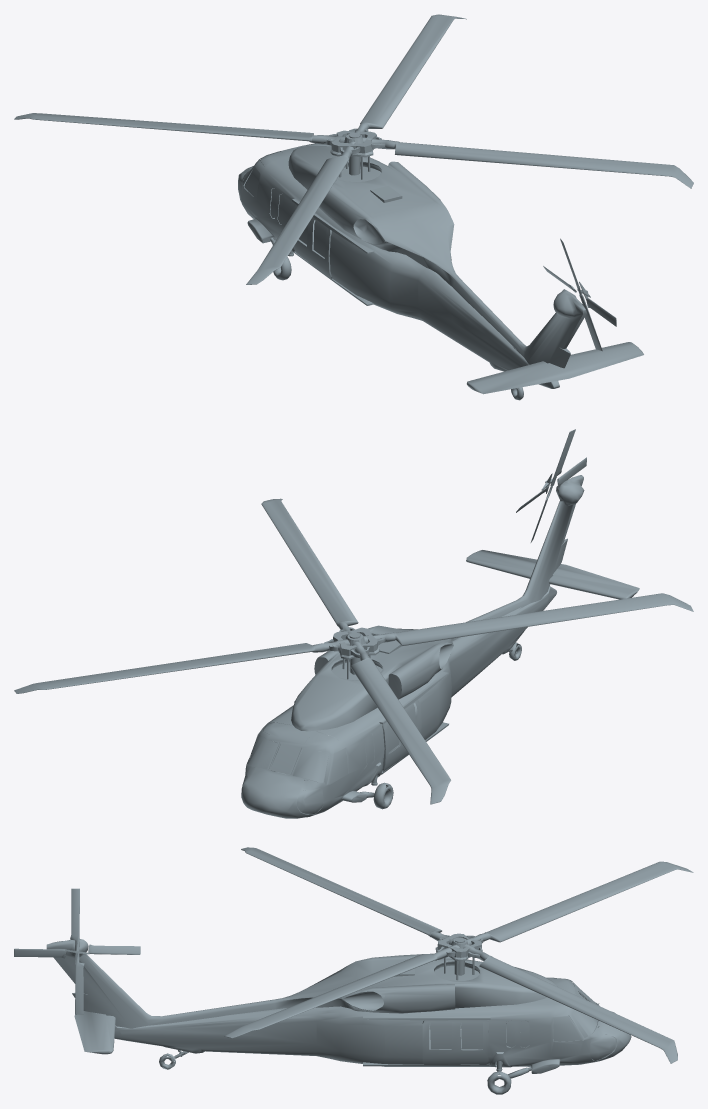
Rendered from model-aircraft-hh-2.glb.
3 views of the same model, one above another, from view 1: azimuth 30°, elevation 25°; view 2: azimuth 150°, elevation 25°; view 3: azimuth 270°, elevation 25° (orthographic). The views are drawn at different scales.
Size of the model in its own units: 27.34 by 11.5 by 39.33.
